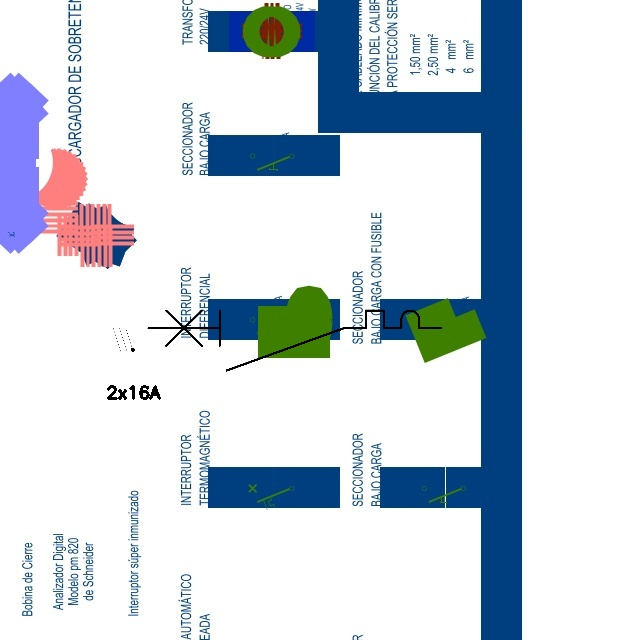interruptor_termomagnetico: (140, 303, 448, 378)
